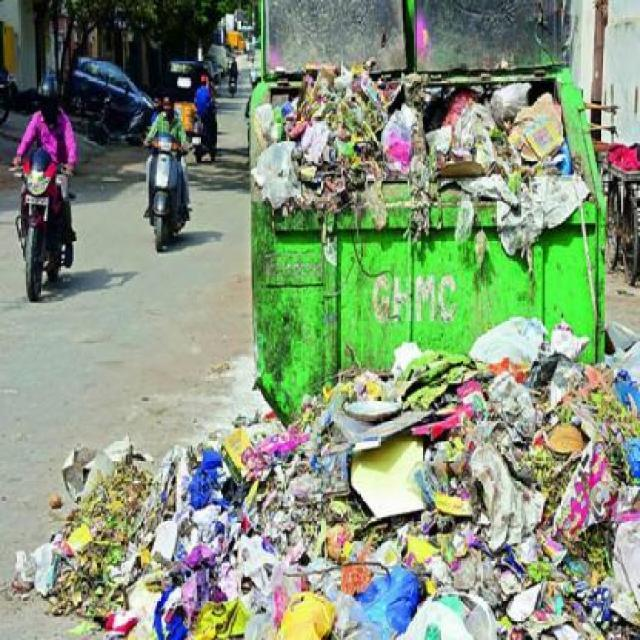garbage: (4, 400, 640, 627), (251, 34, 602, 264), (317, 331, 640, 395)
